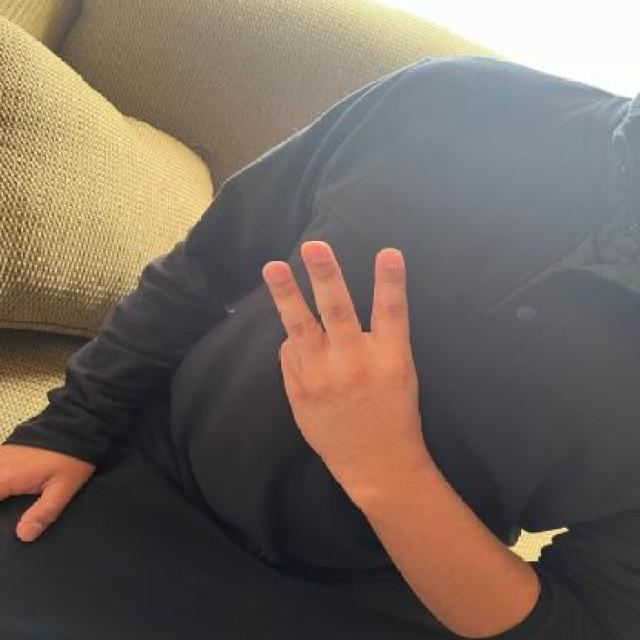W: (258, 227, 428, 468)
